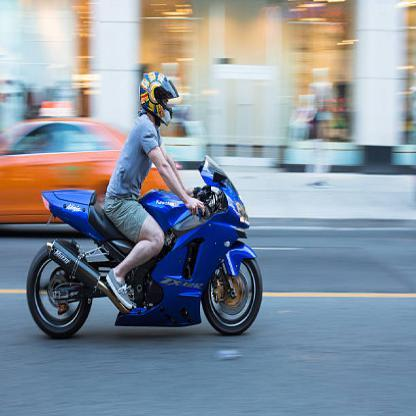Motorcycle: (25, 168, 267, 350)
